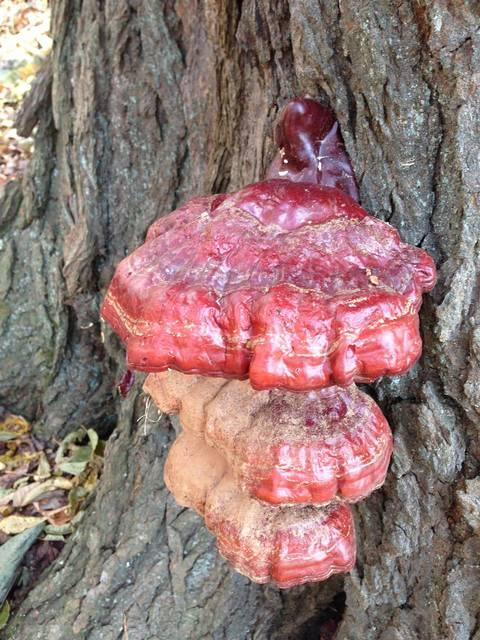Non-edible Mushroom: (99, 95, 438, 589)
